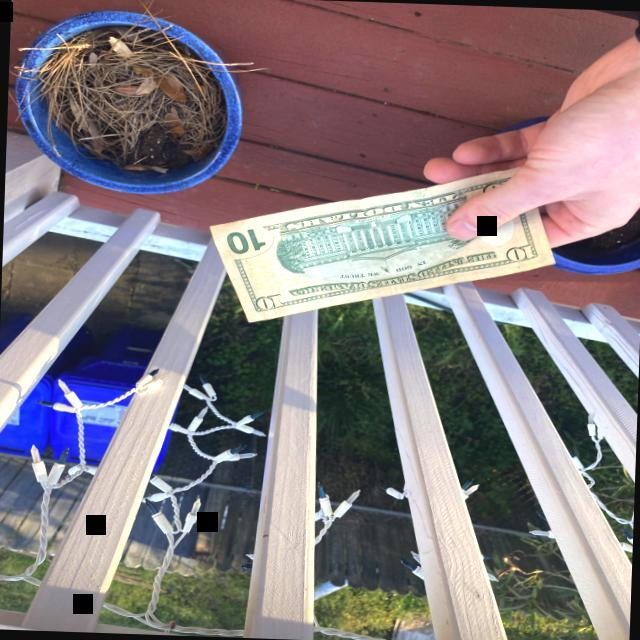ten: (207, 167, 555, 323)
